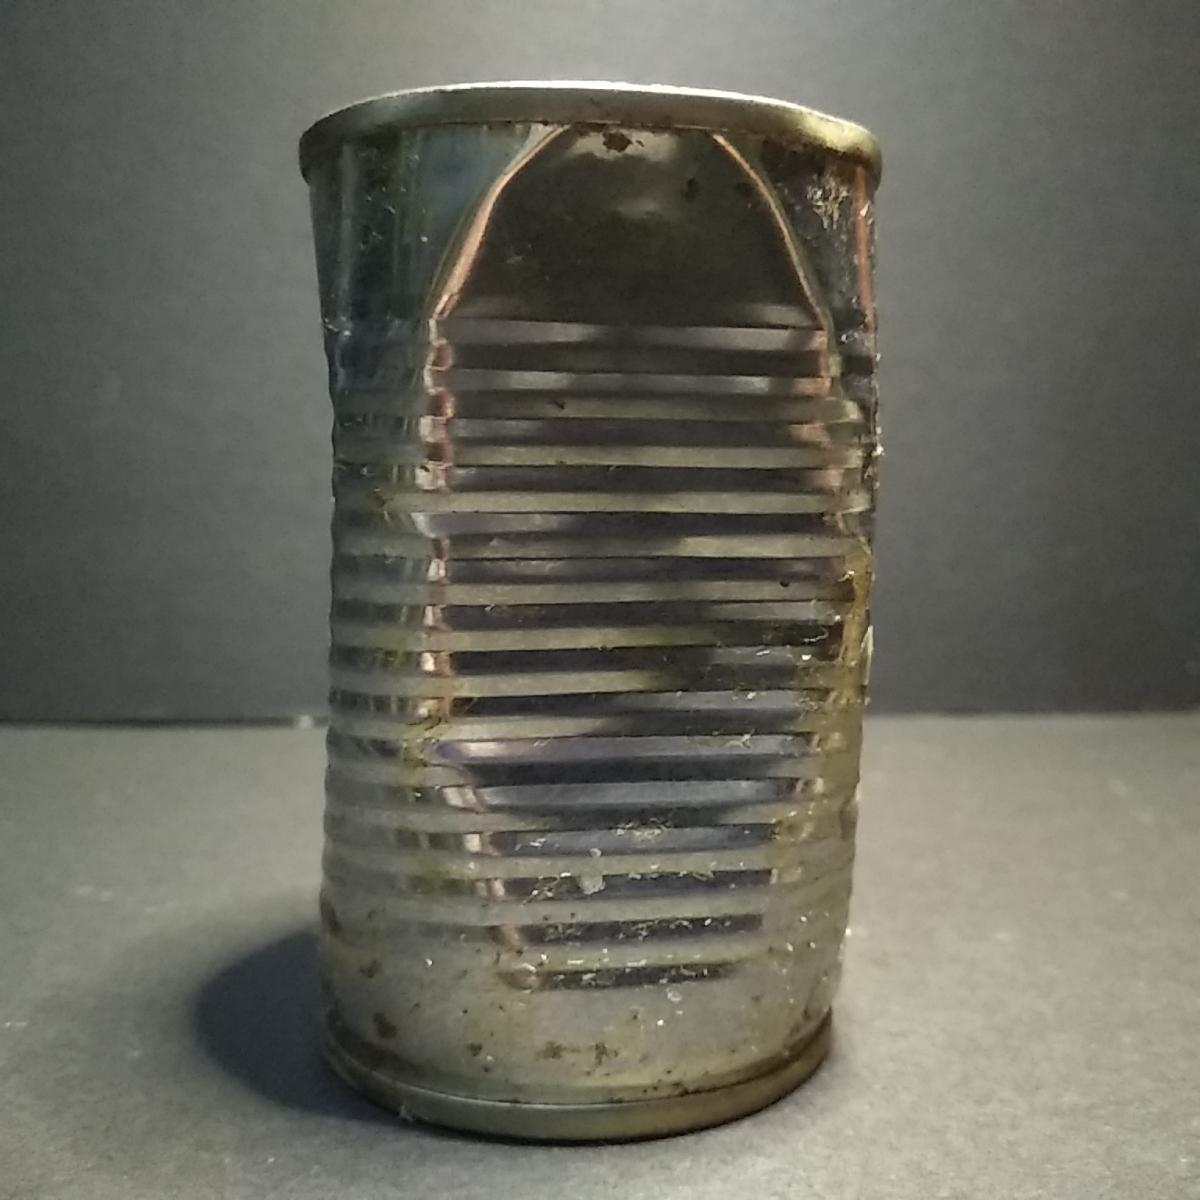Dented: (280, 60, 895, 1152)
